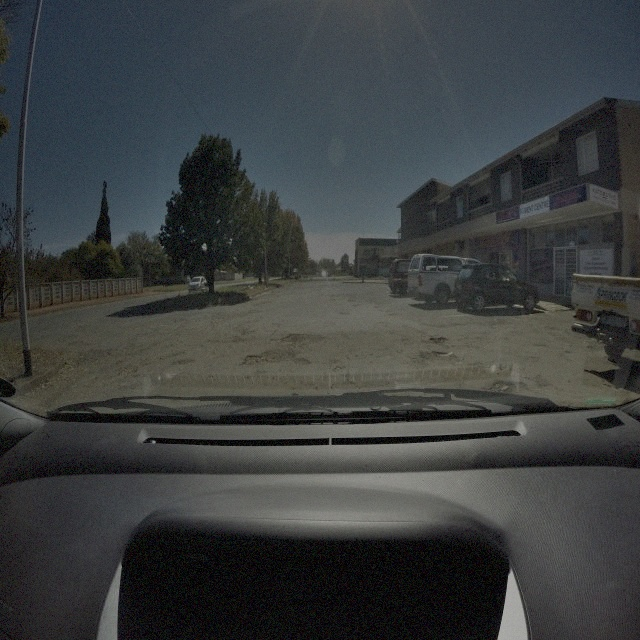pothole: (242, 347, 296, 368), (485, 376, 529, 397), (282, 330, 326, 346), (416, 351, 458, 363), (243, 352, 265, 367), (428, 335, 450, 345), (174, 356, 194, 367), (293, 359, 312, 366)
